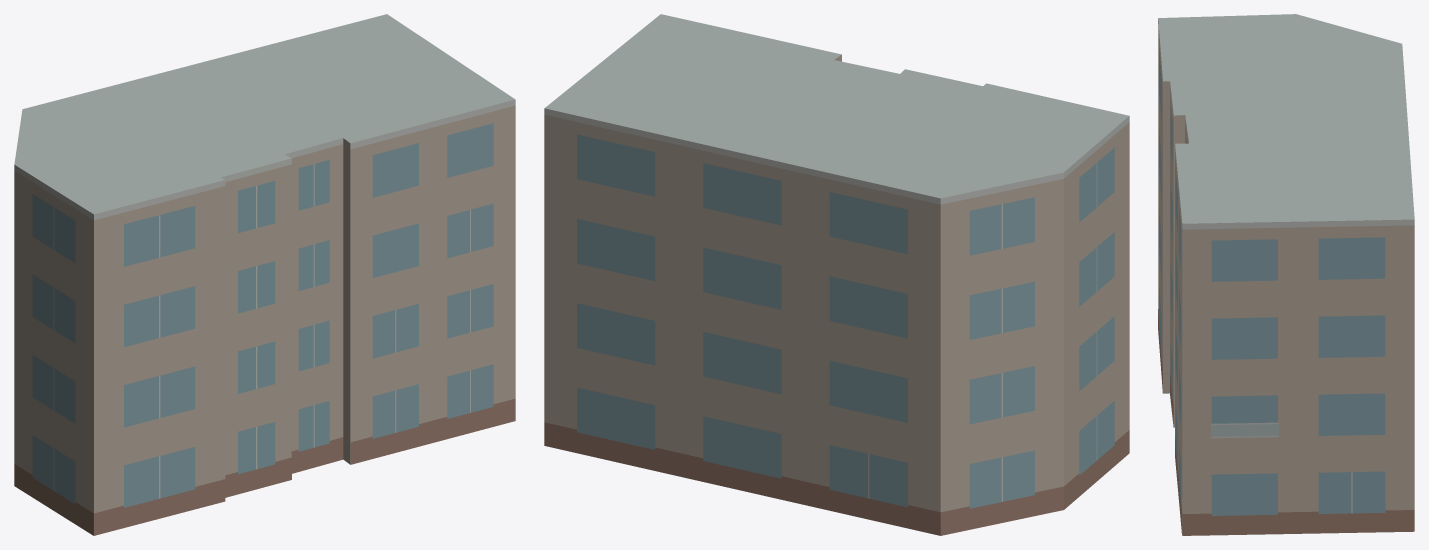
File: survey-upis-32858069.glb
3 views of the same model, side by side, from view 1: azimuth 30°, elevation 25°; view 2: azimuth 150°, elevation 25°; view 3: azimuth 270°, elevation 25° (orthographic). The views are drawn at different scales.
Parts seen in each view (by area): view 1: survey-upis-32858069.tmp; view 2: survey-upis-32858069.tmp; view 3: survey-upis-32858069.tmp.
Part boxes in pixels (x1,y1,x2,y2): survey-upis-32858069.tmp: (14, 14, 515, 535); survey-upis-32858069.tmp: (544, 14, 1129, 535); survey-upis-32858069.tmp: (1158, 14, 1414, 535).
Bounding box in the file's own units: 18.89 × 13.1 × 9.77.
